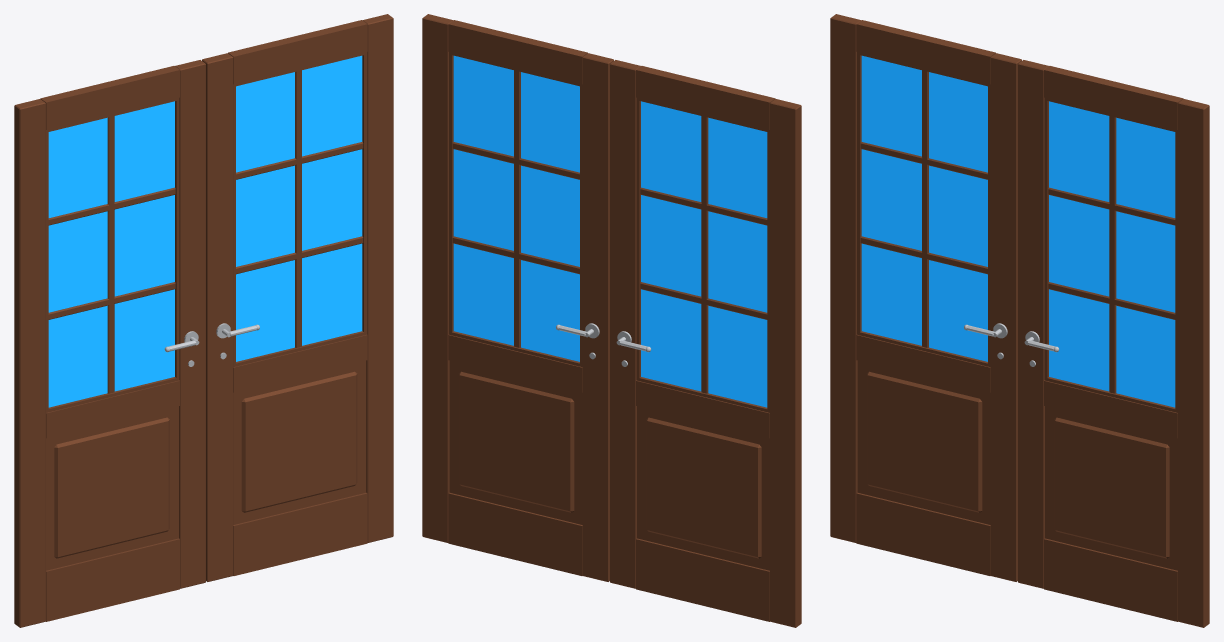
The model's file is porta_dupla_vidro_6_madeira.glb.
3 renders of one model, left to right at view 1: azimuth 30°, elevation 25°; view 2: azimuth 150°, elevation 25°; view 3: azimuth 330°, elevation 25°, orthographic.
Visible parts, largest first — view 1: porta_dupla_vidro_6_madeira; view 2: porta_dupla_vidro_6_madeira; view 3: porta_dupla_vidro_6_madeira.
Part boxes in pixels (x1,y1,x2,y2): porta_dupla_vidro_6_madeira: (14, 14, 393, 627); porta_dupla_vidro_6_madeira: (422, 14, 801, 627); porta_dupla_vidro_6_madeira: (830, 14, 1209, 627).
Bounding box in the file's own units: 1.56 × 2.07 × 0.143.
